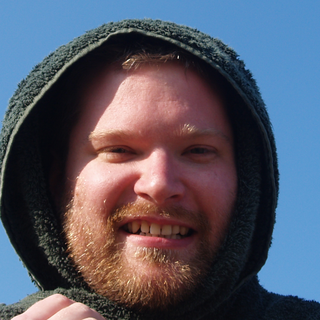eye: (174, 141, 220, 164), (95, 141, 144, 162)
